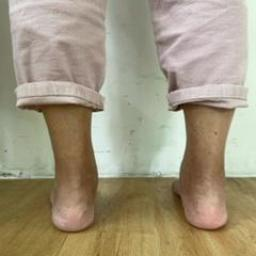Back View -Both Feet-: (18, 120, 250, 246)
